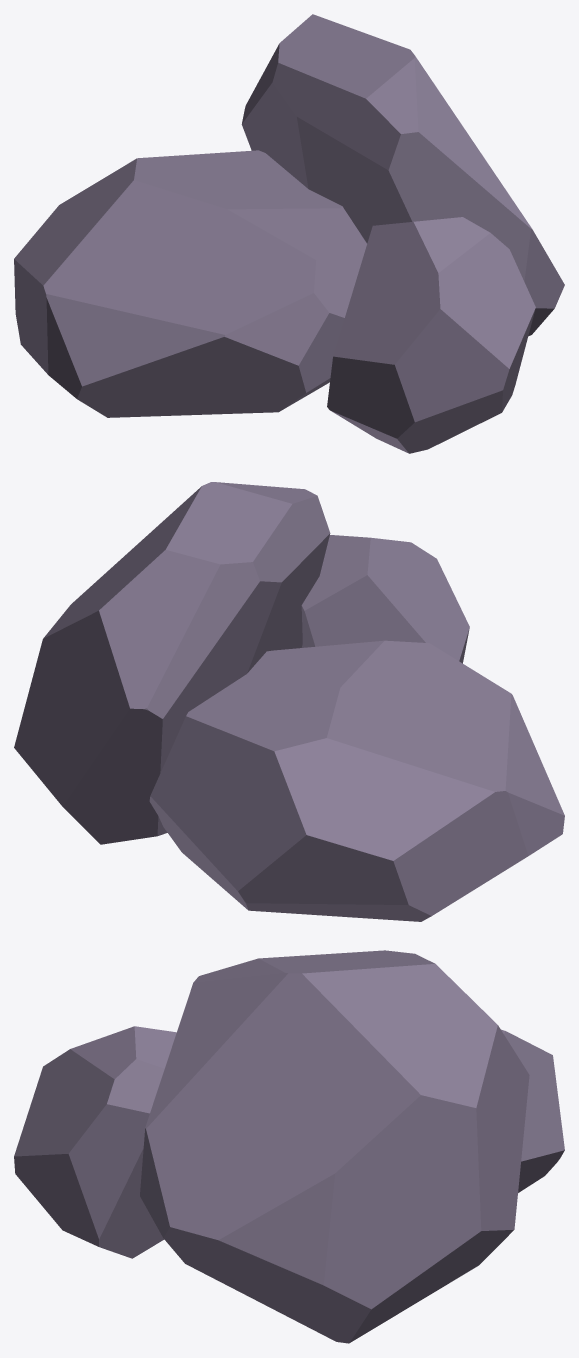
The model's file is Rock_03.glb.
3 views of the same model, one above another, from view 1: azimuth 30°, elevation 25°; view 2: azimuth 150°, elevation 25°; view 3: azimuth 270°, elevation 25° (orthographic). The views are drawn at different scales.
Parts seen in each view (by area): view 1: Rock_Type2_02_mesh; view 2: Rock_Type2_02_mesh; view 3: Rock_Type2_02_mesh.
Part boxes in pixels (x1,y1,x2,y2): Rock_Type2_02_mesh: (14,14,564,453); Rock_Type2_02_mesh: (14,482,564,921); Rock_Type2_02_mesh: (14,950,564,1343).
Size of the model in its own units: 14.5 by 10.1 by 15.07.
